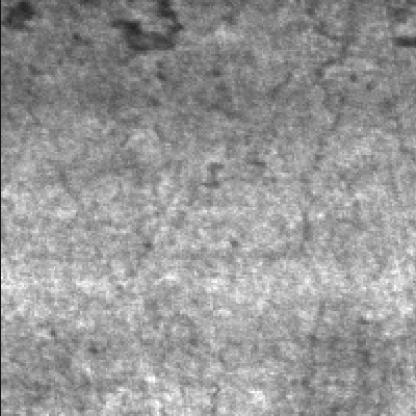crazing: (192, 2, 353, 264)
